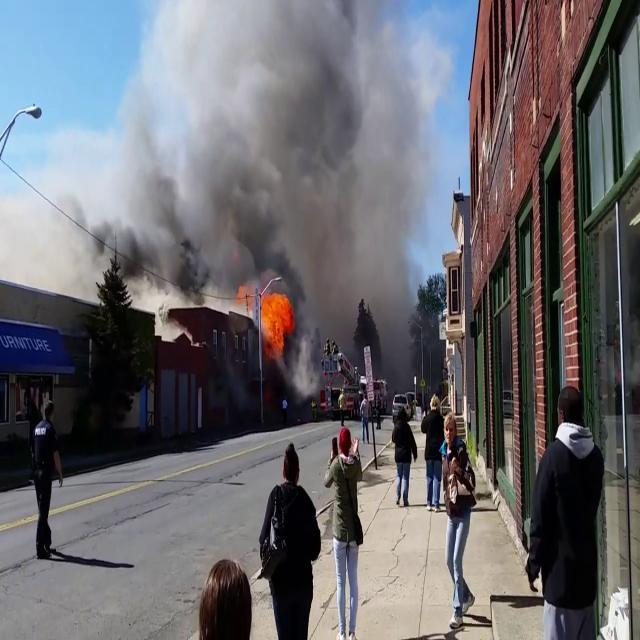Fire: (254, 280, 294, 355)
Smoke: (100, 0, 430, 324)
